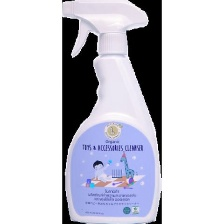cleaning_solution: (60, 0, 162, 224)
